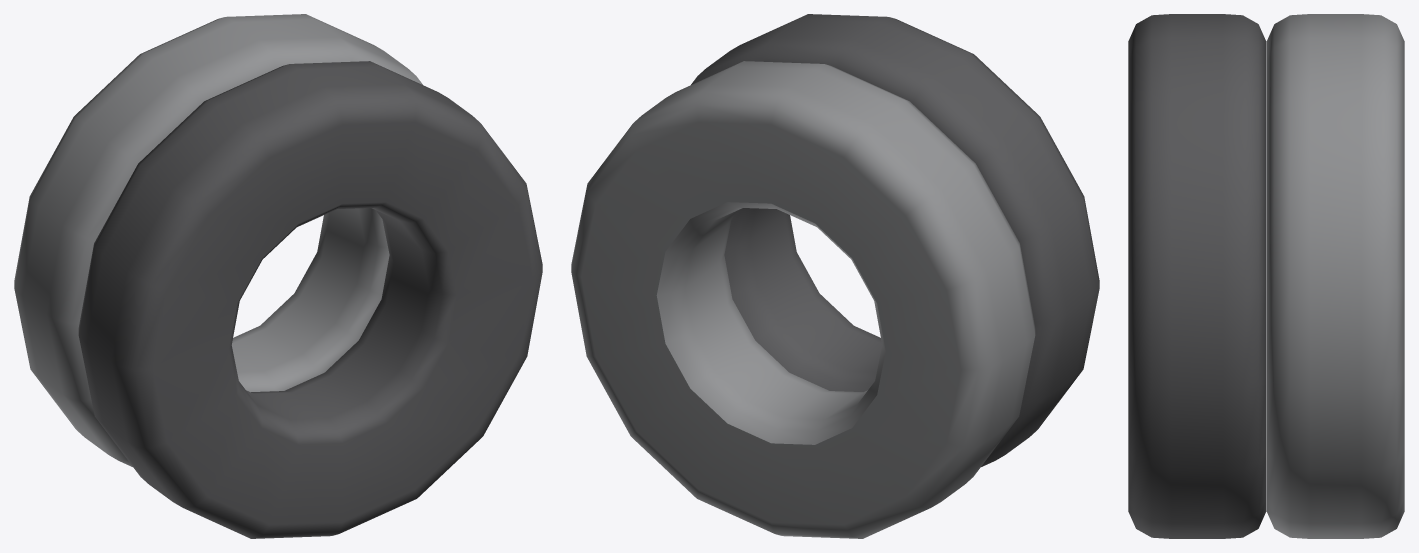
The picture shows the model from 3 angles, left to right: view 1: azimuth 30°, elevation 25°; view 2: azimuth 150°, elevation 25°; view 3: azimuth 270°, elevation 25°; orthographic projection. The views are drawn at different scales.
Size of the model in its own units: 0.832 by 0.832 by 0.437.
